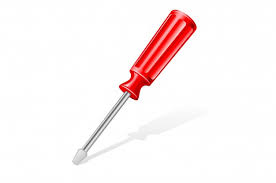screwdriver: (69, 6, 205, 176)
